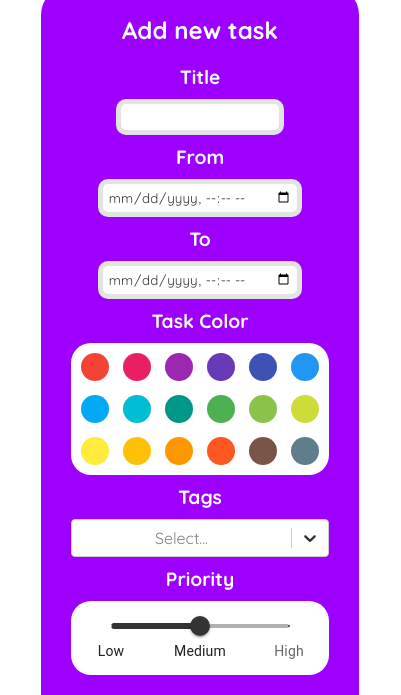
Test: <TaskForm /> › displays error message if start time is after end time
This screenshot has width=401, height=695.
Type "New Task" into the field with test id "title".
click(200, 117); type("New Task")  # box [116, 99, 284, 135]
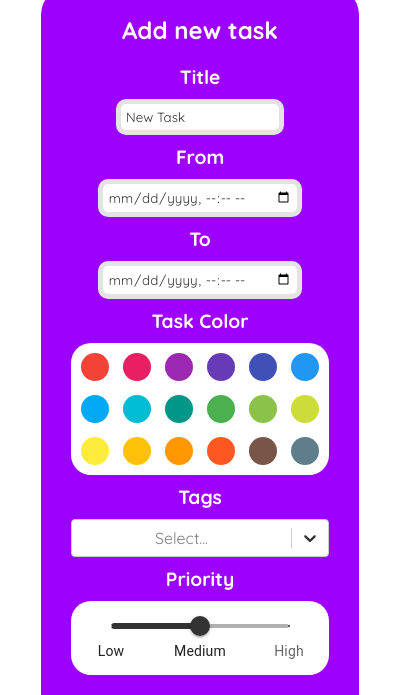
Type "2023-07-09T12:00" into the field with test id "start-time".
click(200, 198); type("2023-07-09T12:00")  # box [98, 179, 302, 217]
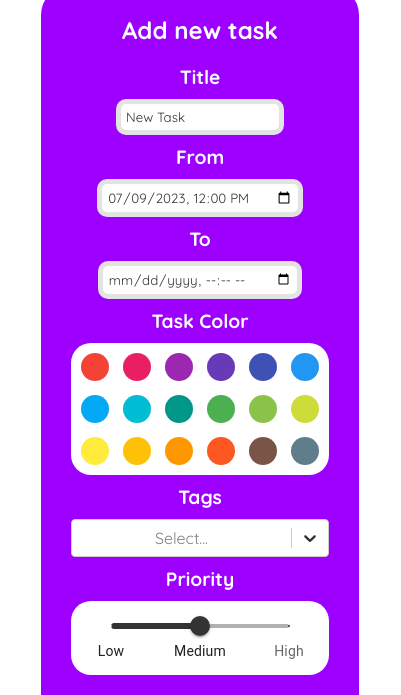
Type "2022-07-09T13:00" into the field with test id "end-time".
click(200, 280); type("2022-07-09T13:00")  # box [98, 261, 302, 299]
(page scrolled)
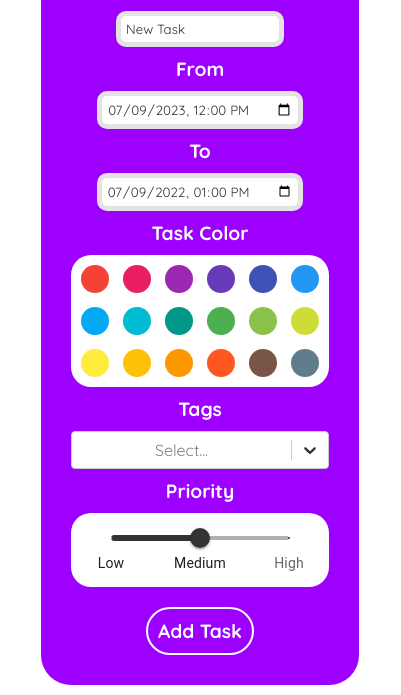
Submit the form from the button "Add Task", box [146, 607, 254, 655]
(page scrolled)
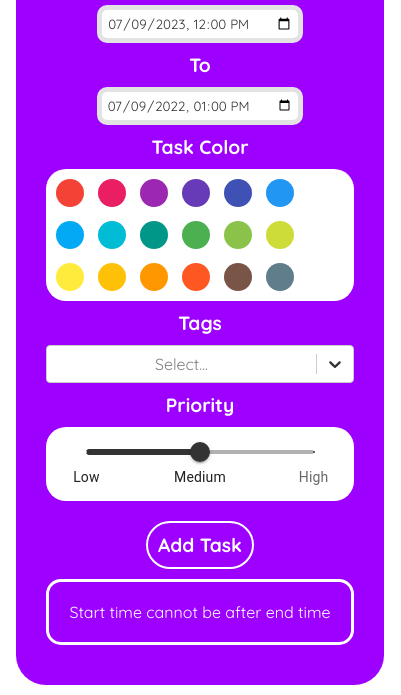
Result: the text "Start time cannot be after end time" is shown at [46, 579, 354, 645]
